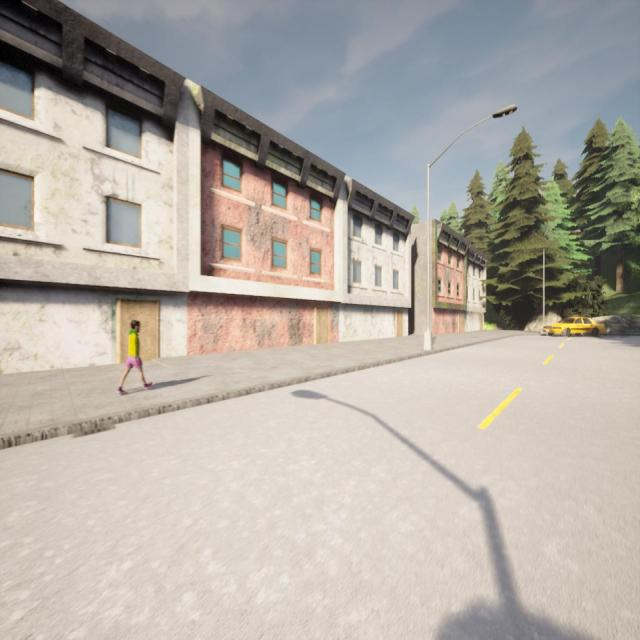Pedestrian: (117, 320, 153, 394)
Vehicle: (541, 316, 605, 337)
